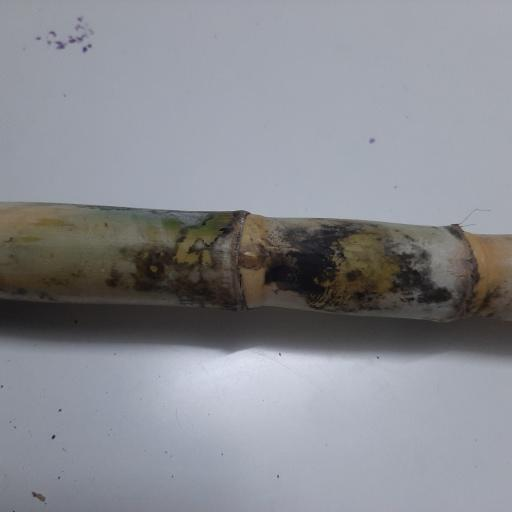Bud: (238, 243, 264, 268)
